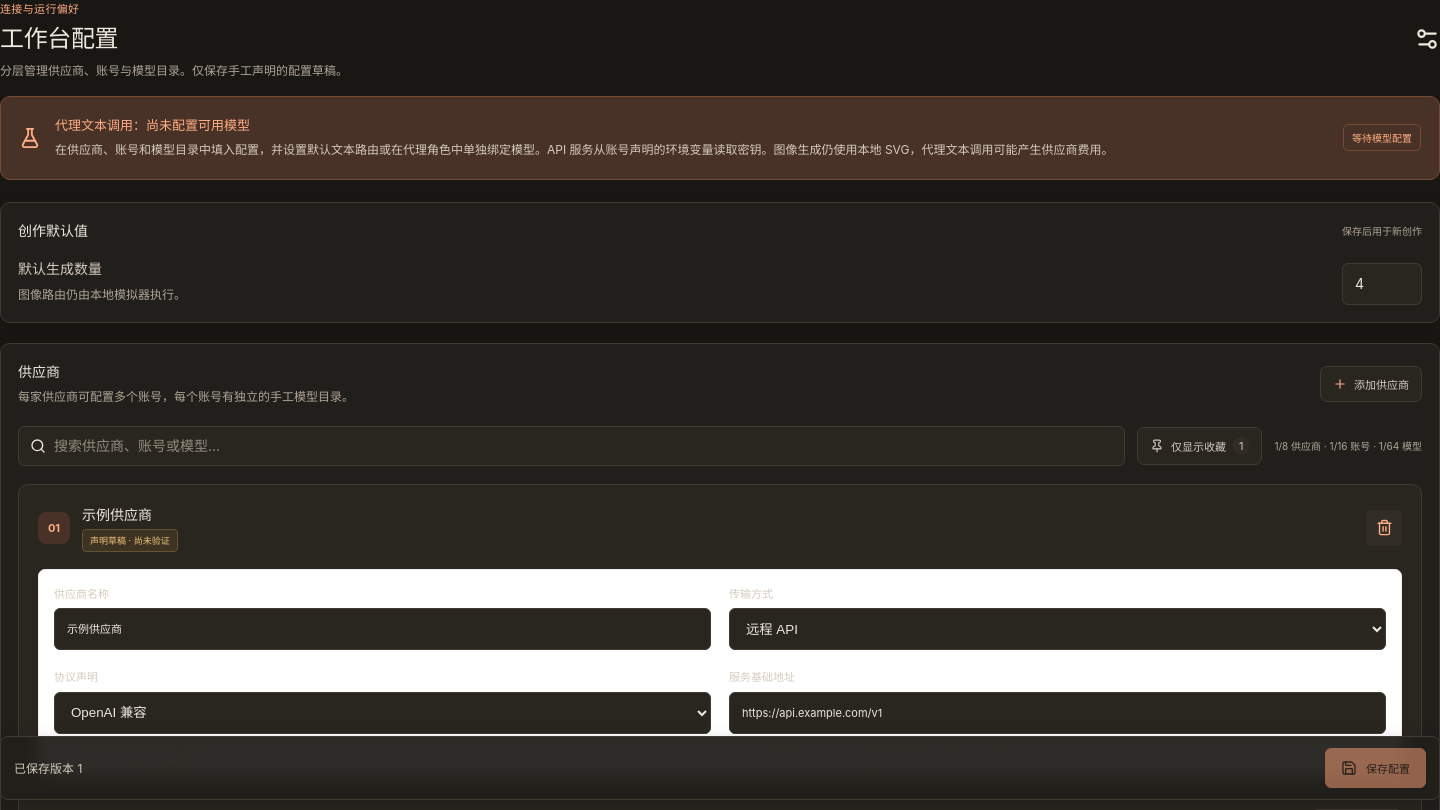
Test: 模型配置 v2 › 删除被引用的供应商前说明级联内容，确认后才保存清除后的关联
Check: the heading "示例供应商" is shown, box [82, 506, 152, 523]
Click the button named "删除供应商 示例供应商" at [1384, 528], box [1366, 510, 1402, 546]
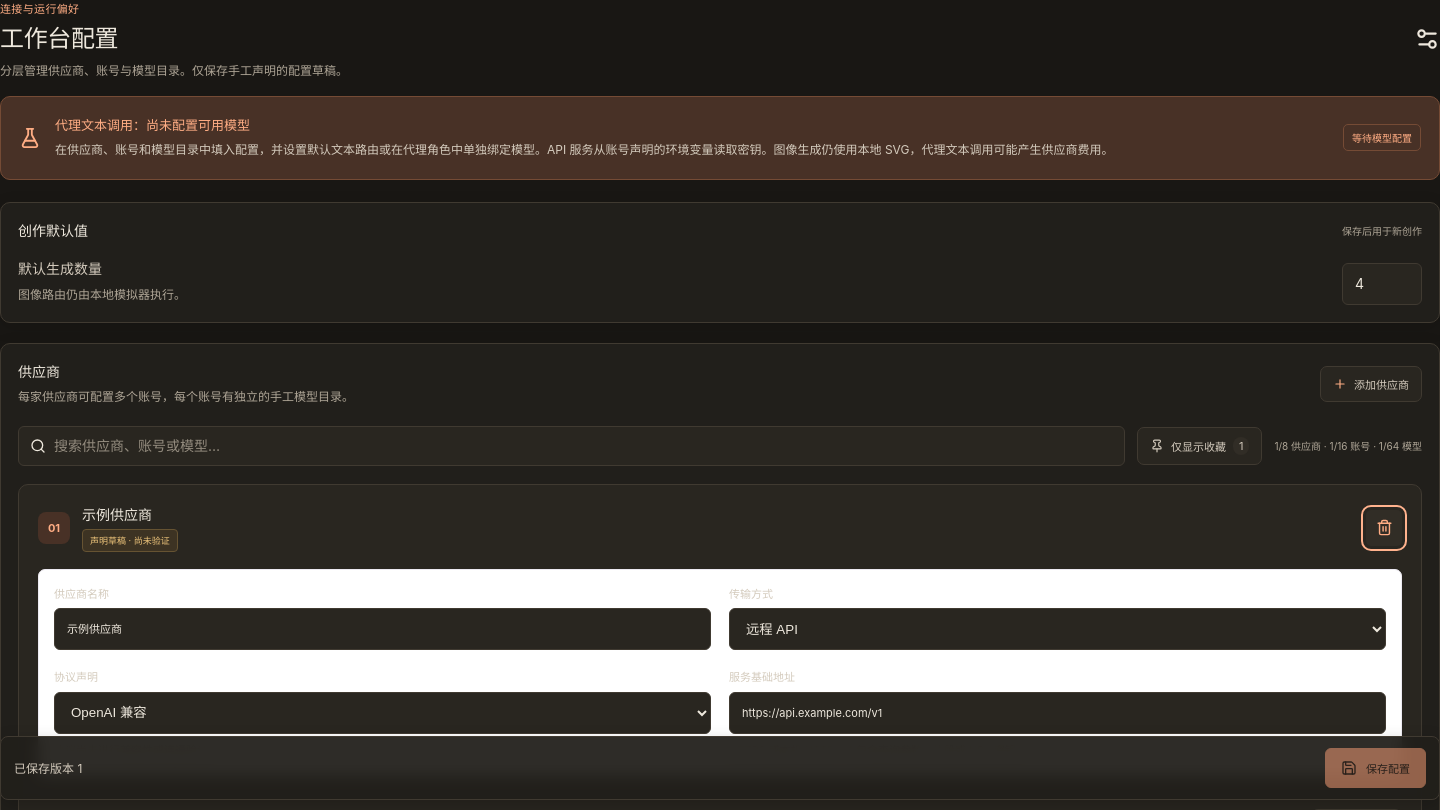
Check: the button "保存配置" is disabled, box [1325, 748, 1426, 788]
Click the button named "删除供应商 示例供应商" at [1384, 528], box [1366, 510, 1402, 546]
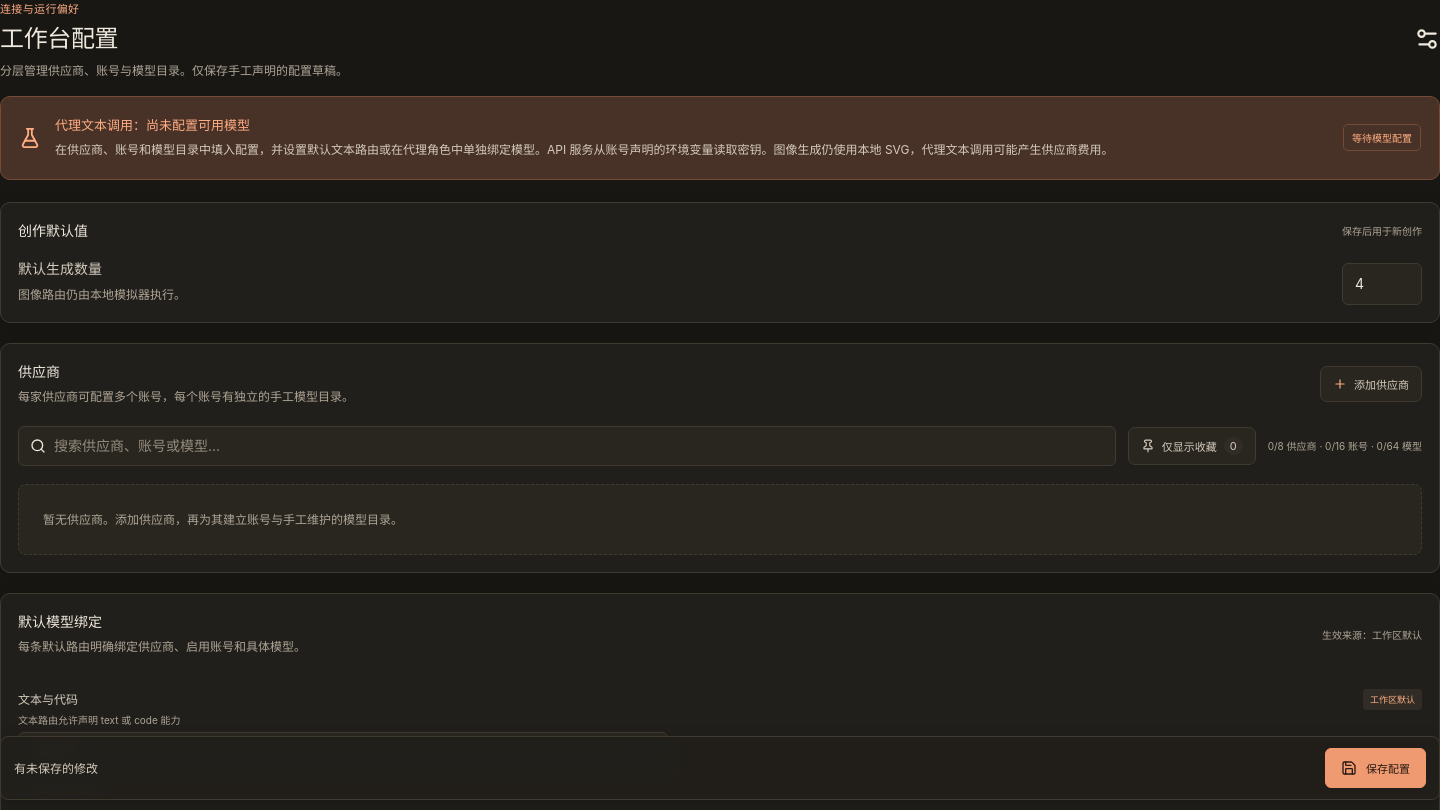
Click the button "保存配置" at [1376, 768], box [1325, 748, 1426, 788]
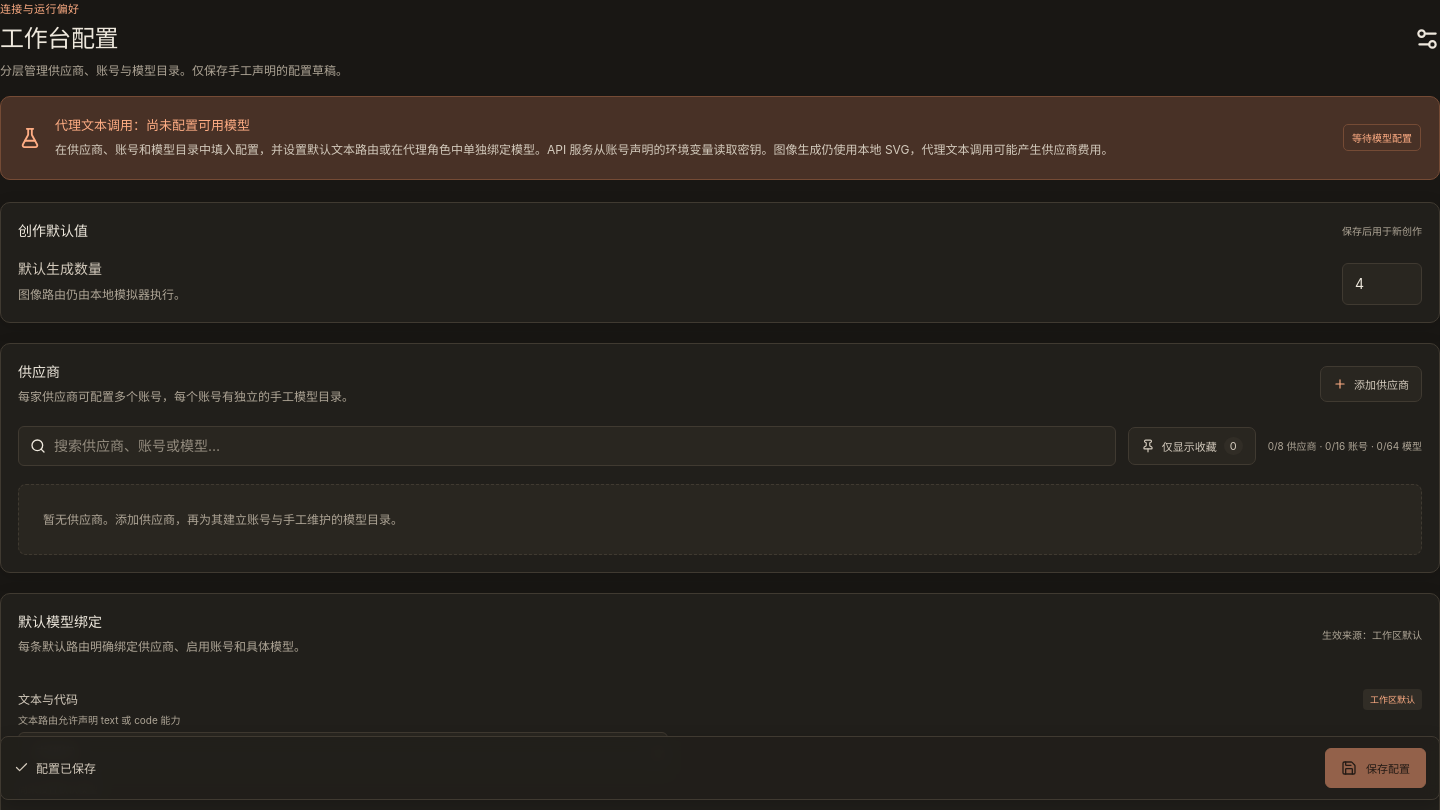
Check: the text "配置已保存" is shown, box [14, 760, 96, 776]
